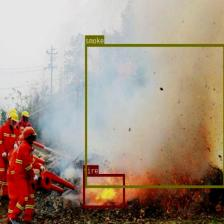fire: (83, 174, 124, 208)
smoke: (84, 43, 224, 187)
